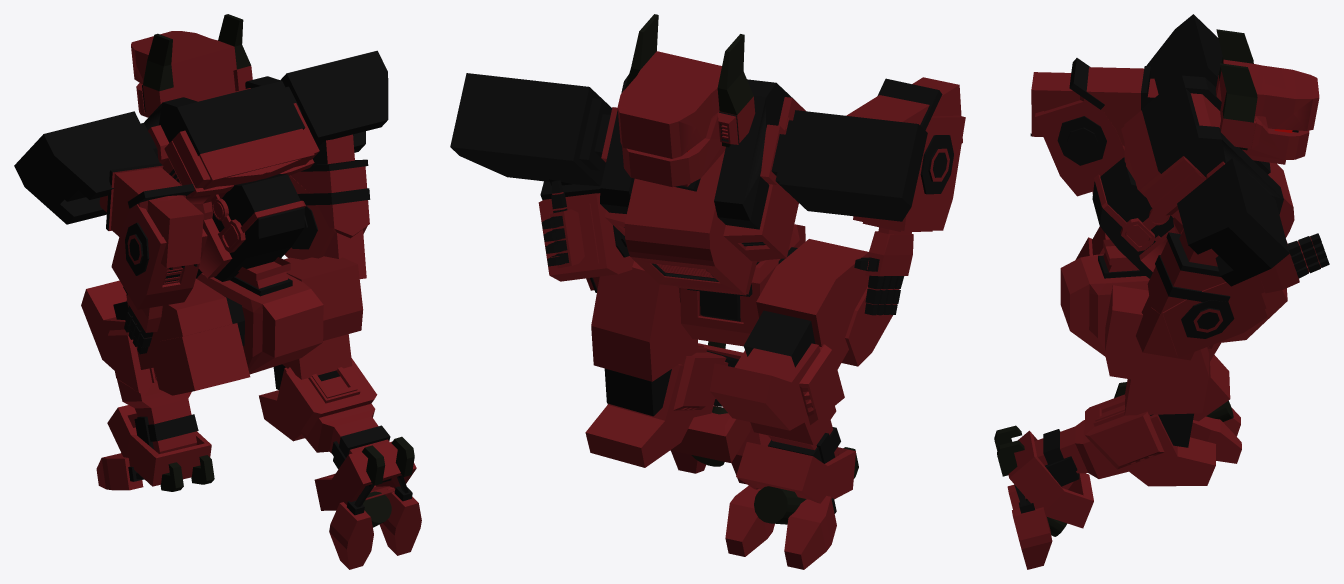
The model's file is walk7.obj.
The picture shows the model from 3 angles, left to right: view 1: azimuth 30°, elevation 25°; view 2: azimuth 150°, elevation 25°; view 3: azimuth 270°, elevation 25°; orthographic projection. The views are drawn at different scales.
Visible parts, largest first — view 1: R_UpperShoulder_Cube.030; view 2: R_UpperShoulder_Cube.030; view 3: R_UpperShoulder_Cube.030.
Part boxes in pixels (x1=…): R_UpperShoulder_Cube.030: x1=14, y1=14, x2=421, y2=569; R_UpperShoulder_Cube.030: x1=450, y1=14, x2=965, y2=569; R_UpperShoulder_Cube.030: x1=994, y1=14, x2=1329, y2=569.
Size of the model in its own units: 1.44 by 1.77 by 1.14.
